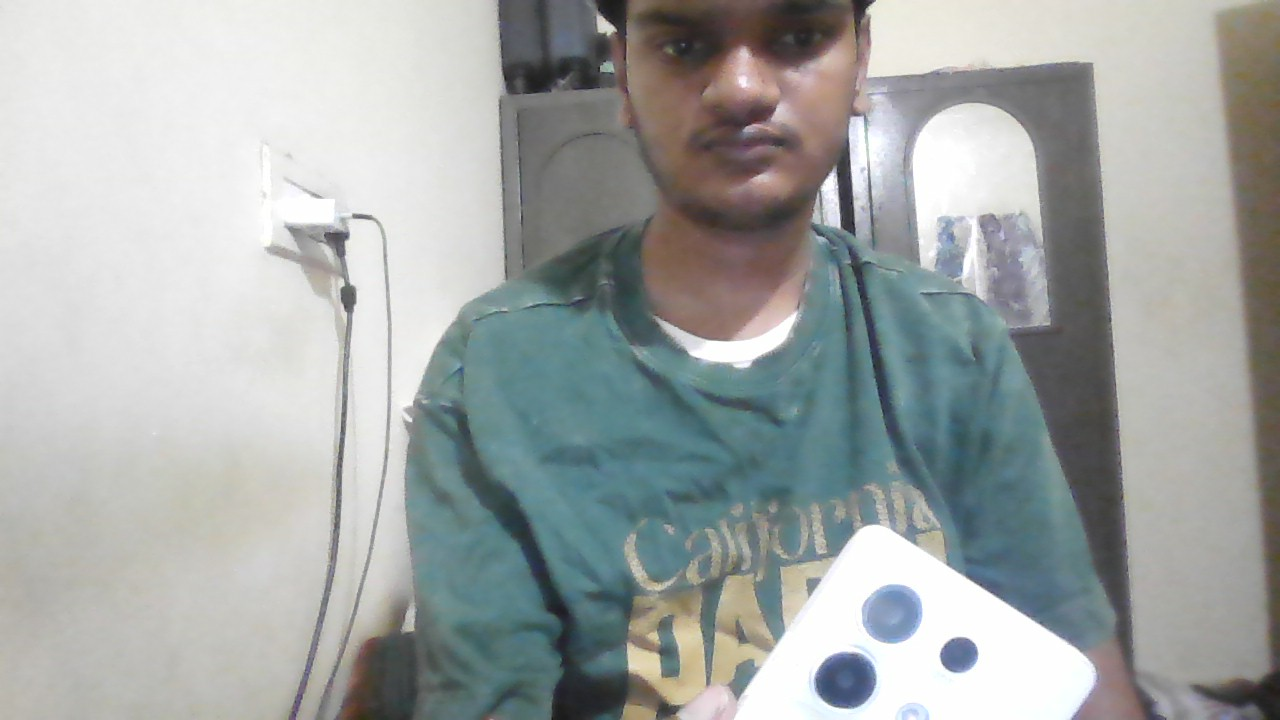phone: (766, 562, 1043, 715)
